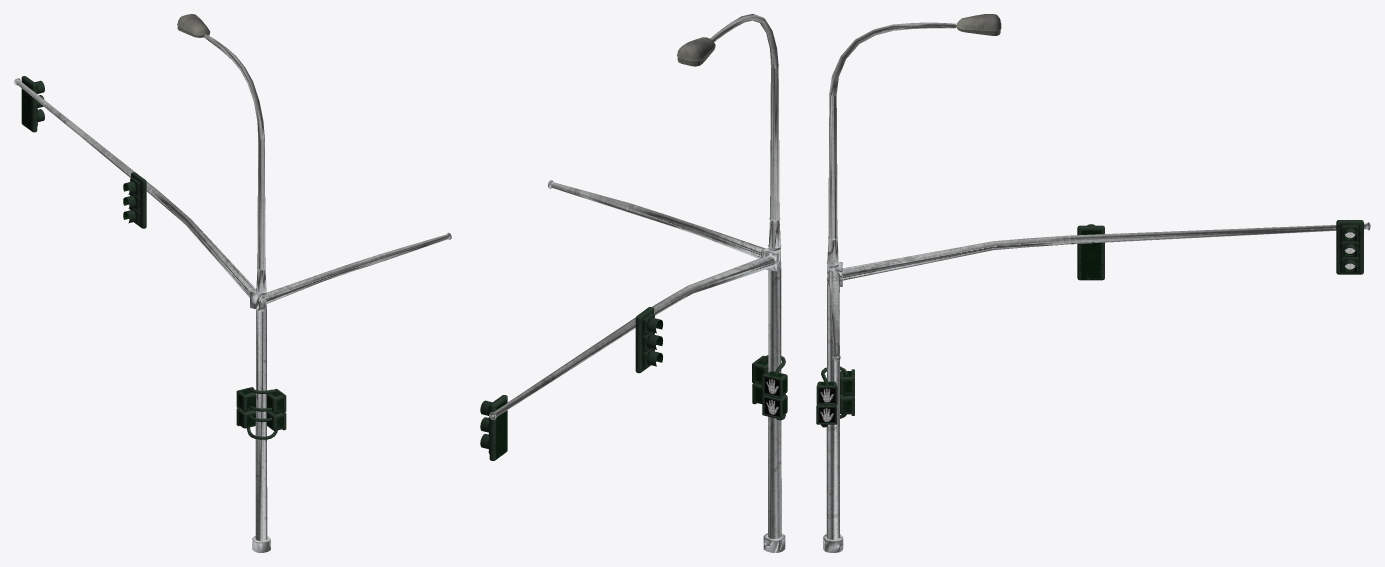
File: Mainbody.fbx
3 views of the same model, side by side, from view 1: azimuth 30°, elevation 25°; view 2: azimuth 150°, elevation 25°; view 3: azimuth 270°, elevation 25° (orthographic). The views are drawn at different scales.
Parts seen in each view (by area): view 1: MainBody, TrafficLightMap2_v1_light_2_4.002, TrafficLightMap2_v1_light_4_3.002, Light_R.001, TrafficLightMap2_v1_light_4_3_1.001; view 2: MainBody, TrafficLightMap2_v1_light_2_4.002, Light_R.001, TrafficLightMap2_v1_light_4_3.002, TrafficLightMap2_v1_light_4_3_1.001; view 3: MainBody, Light_R.001, TrafficLightMap2_v1_light_2_4.002, TrafficLightMap2_v1_light_4_3.002.
Part boxes in pixels (<box>): MainBody: <box>14,14,451,552</box>; TrafficLightMap2_v1_light_2_4.002: <box>123,172,146,228</box>; TrafficLightMap2_v1_light_4_3.002: <box>236,387,286,421</box>; Light_R.001: <box>21,76,44,132</box>; TrafficLightMap2_v1_light_4_3_1.001: <box>236,406,286,439</box>; MainBody: <box>489,14,785,552</box>; TrafficLightMap2_v1_light_2_4.002: <box>635,307,663,373</box>; Light_R.001: <box>480,395,507,460</box>; TrafficLightMap2_v1_light_4_3.002: <box>752,355,787,398</box>; TrafficLightMap2_v1_light_4_3_1.001: <box>752,382,787,420</box>; MainBody: <box>823,14,1370,552</box>; Light_R.001: <box>1336,220,1363,274</box>; TrafficLightMap2_v1_light_2_4.002: <box>1077,224,1104,280</box>; TrafficLightMap2_v1_light_4_3.002: <box>816,366,854,405</box>.
Bounding box in the file's own units: 621 × 1364 × 1287.
